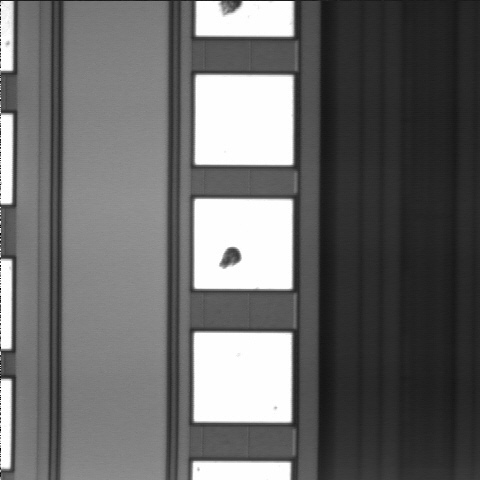pad: (195, 75, 293, 165), (194, 199, 292, 289), (194, 333, 292, 422)
